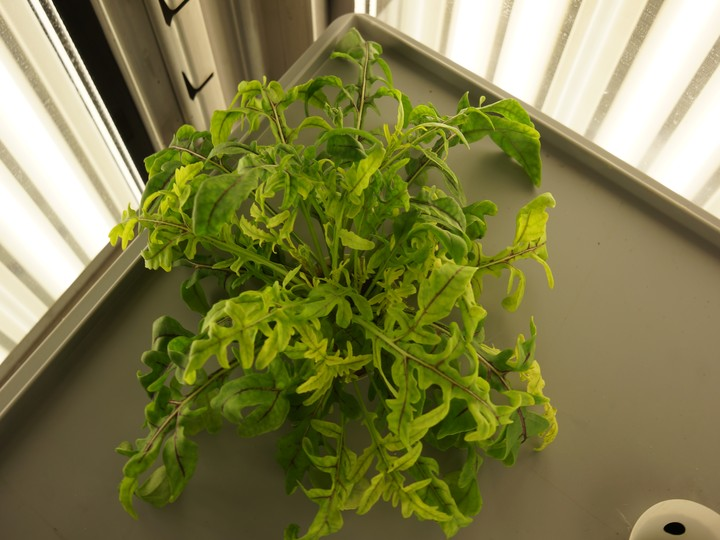roquette_sauvage_red_veined: (113, 29, 571, 540)
